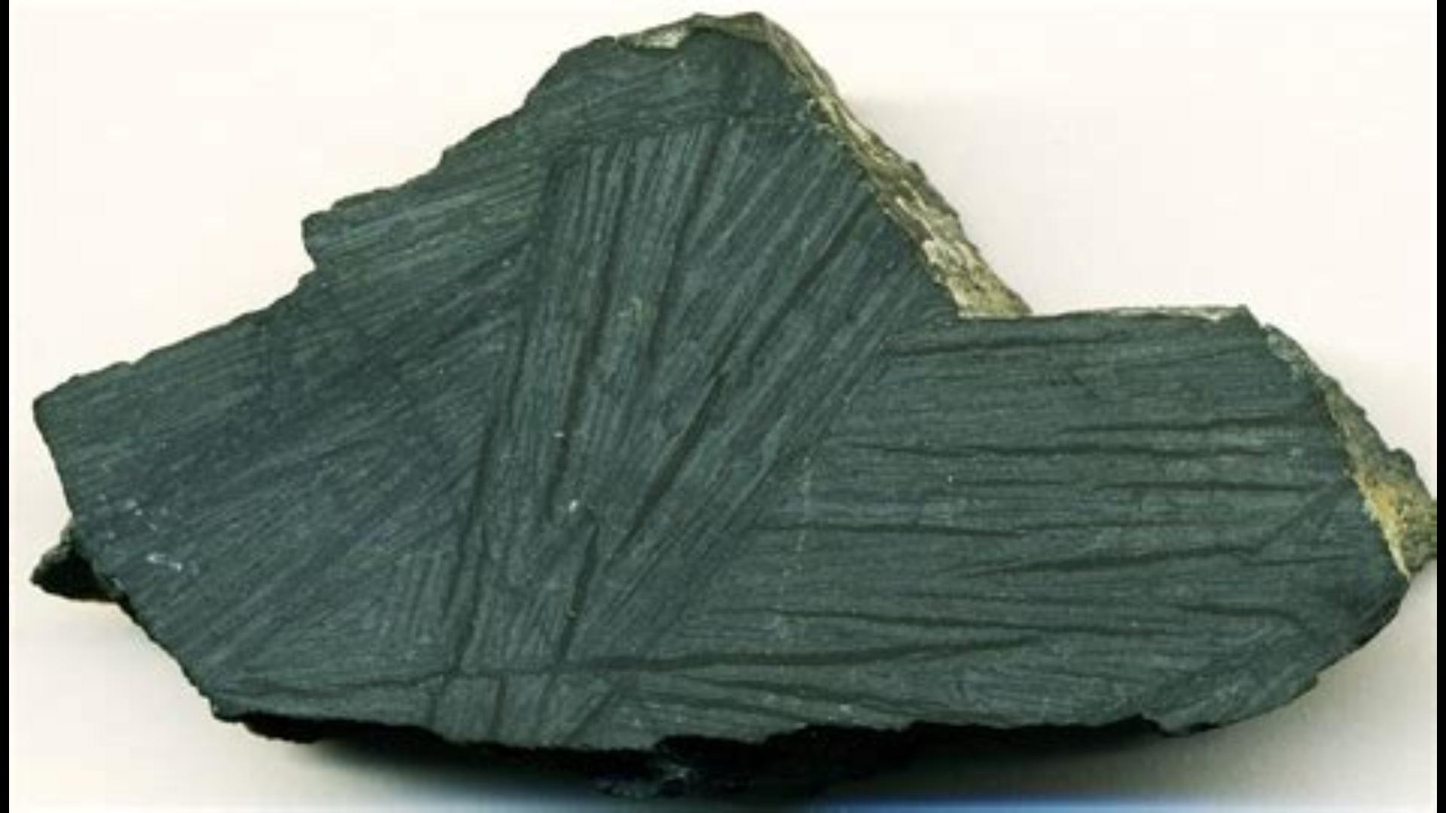rock: (36, 15, 1434, 744)
